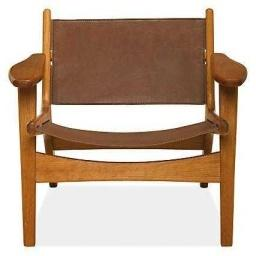Chair: (9, 11, 247, 246)
